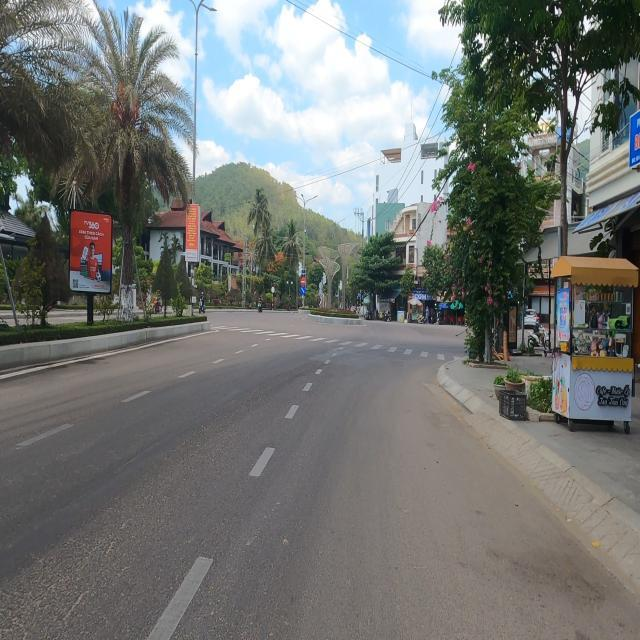walk-crossing: (211, 320, 463, 373)
